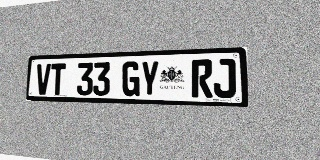3: (93, 62, 110, 96), (77, 62, 93, 96)
G: (122, 61, 140, 96)
J: (213, 58, 236, 98)
R: (192, 59, 213, 98)
T: (50, 63, 66, 95)
V: (36, 64, 51, 95)
Y: (140, 61, 159, 97)
